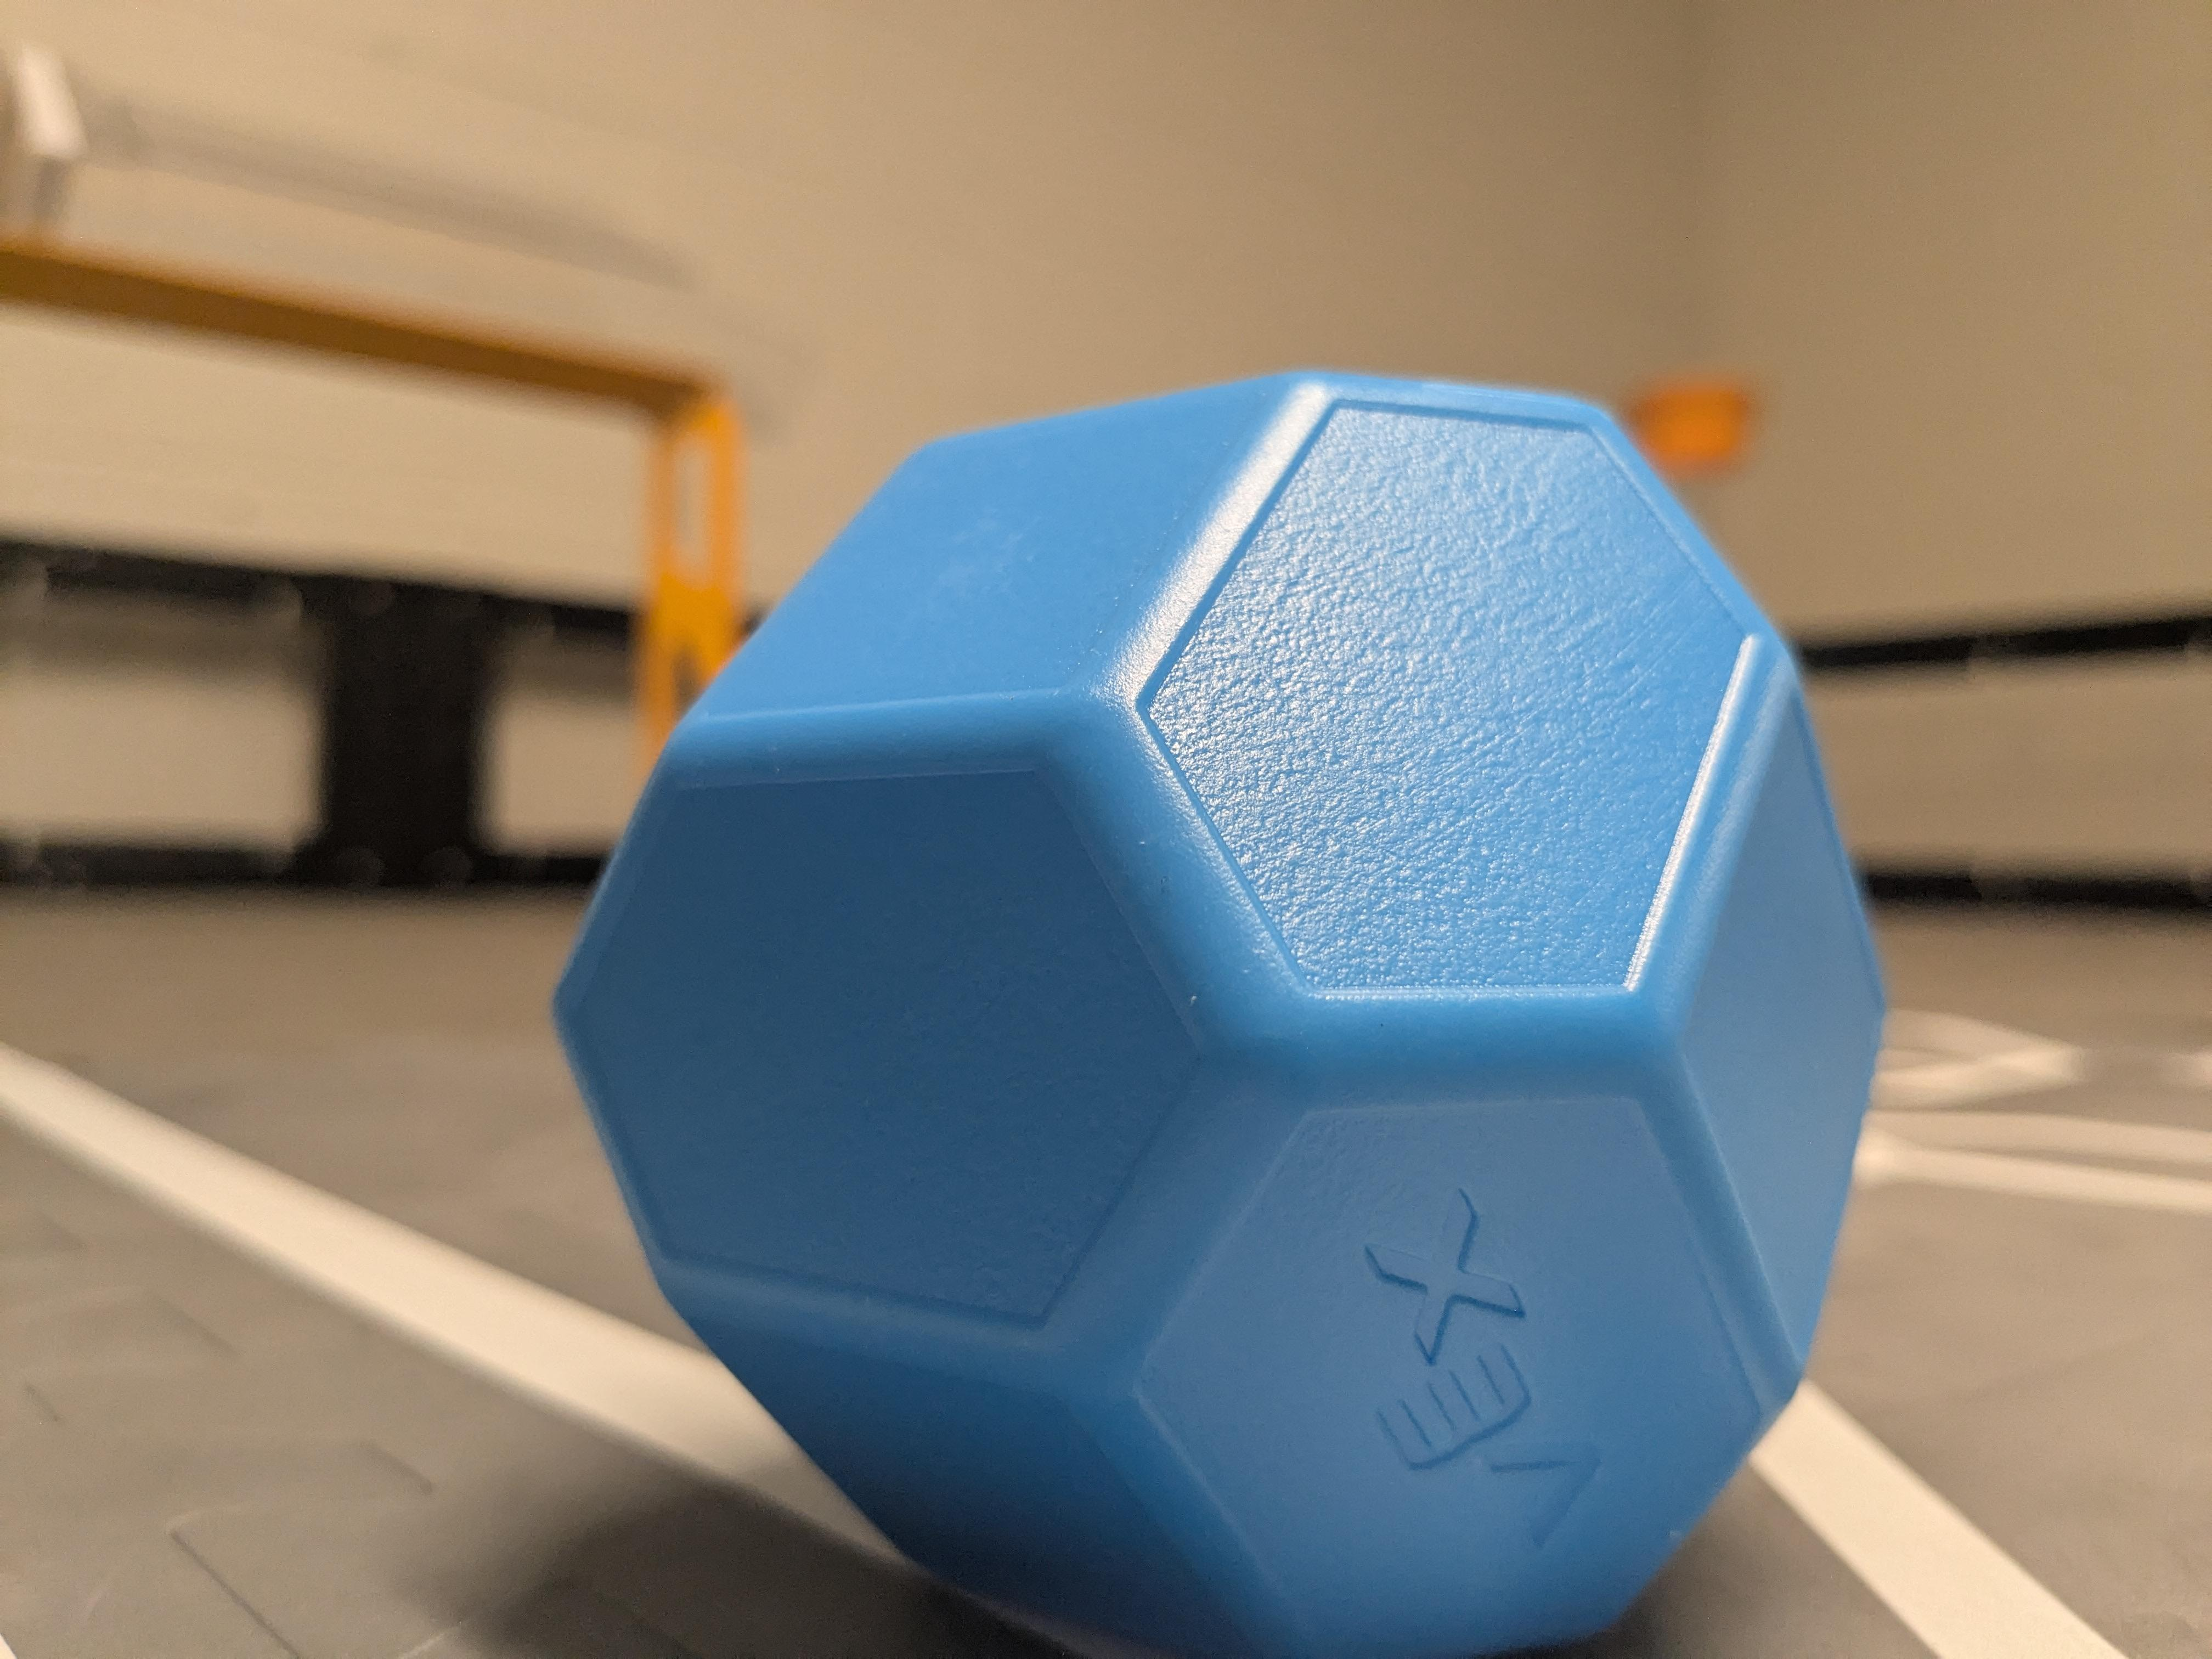Vex-Pieces-BLUE: (557, 373, 1883, 1654)
